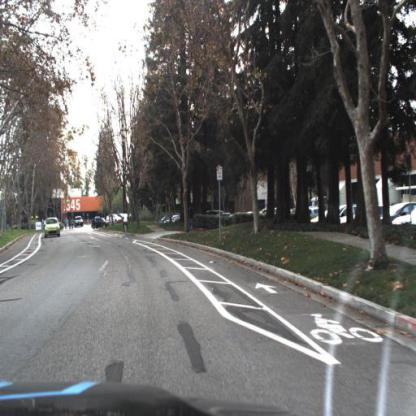biker: (122, 210, 129, 236)
car: (42, 215, 62, 240), (337, 203, 351, 229), (94, 215, 110, 230), (75, 217, 85, 230)
pedestrian: (189, 205, 196, 234), (64, 216, 74, 230)
